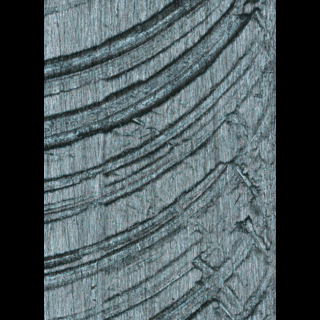d: (46, 2, 275, 320)
